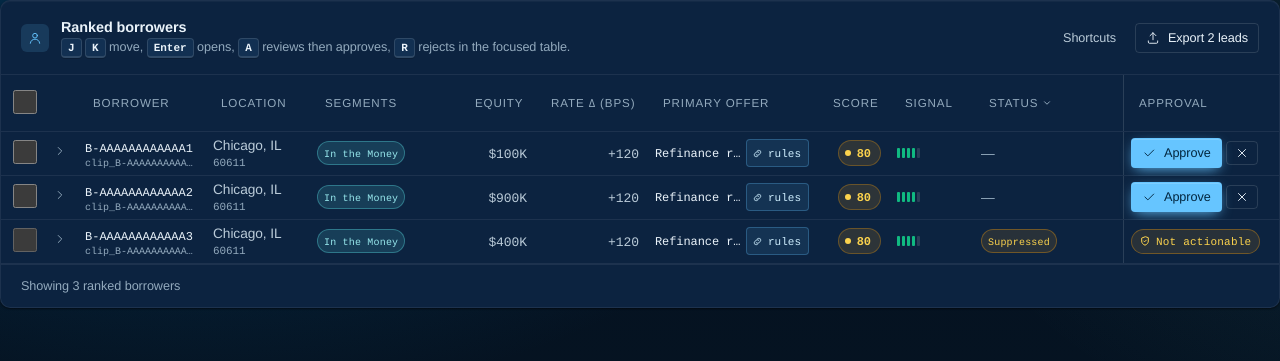
LeadTable audited export › tells a refused request apart from a receipt that did not match the file
This screenshot has width=1280, height=361.
Click the button with test id "lead-export" at (1197, 38), box [1135,23,1259,53]
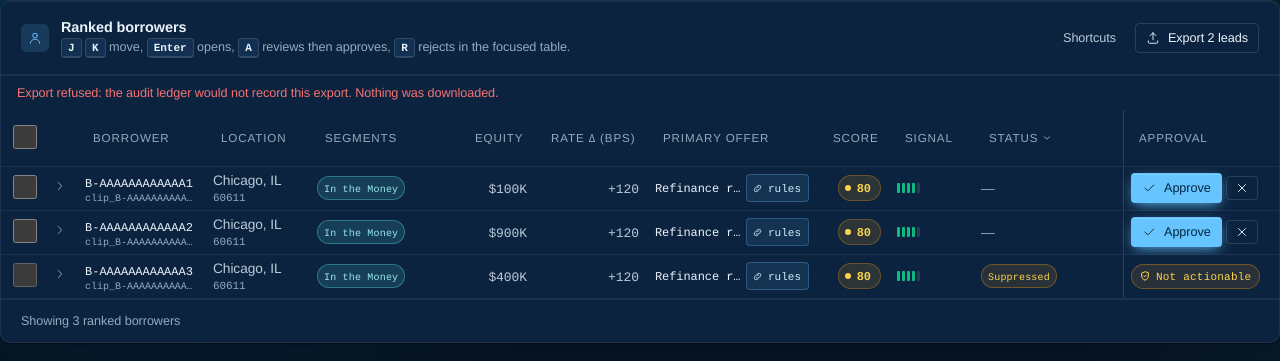
Expected: the message with test id "lead-export-error" is shown, [1,75,1279,110]
Expected: the message with test id "lead-export-error" shows "Export refused: the audit ledger would not record this export. Nothing was downloaded.", [17,85,498,101]
